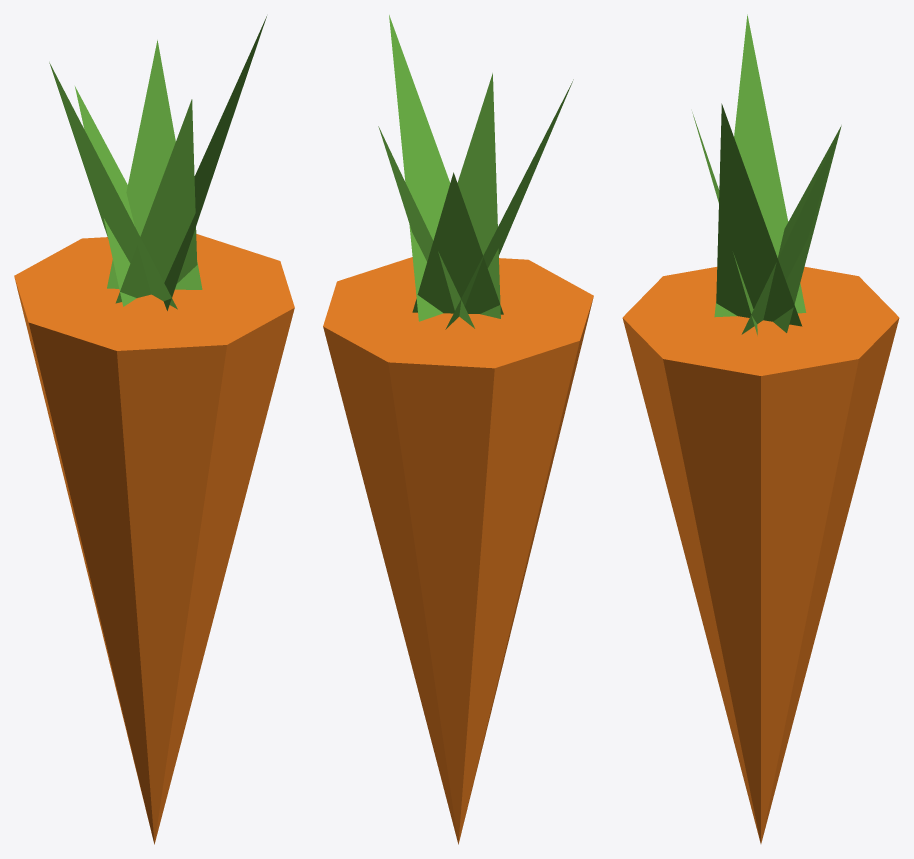
File: carrot_item.obj
The picture shows the model from 3 angles, left to right: view 1: azimuth 30°, elevation 25°; view 2: azimuth 150°, elevation 25°; view 3: azimuth 270°, elevation 25°; orthographic projection. The views are drawn at different scales.
Parts seen in each view (by area): view 1: item; view 2: item; view 3: item.
Boxes of the visible parts, box(x1,y1,x2,y2) form: item: box(14, 16, 294, 844); item: box(323, 15, 593, 844); item: box(622, 14, 899, 843).
Bounding box in the file's own units: 0.2 × 0.6251 × 0.2.
